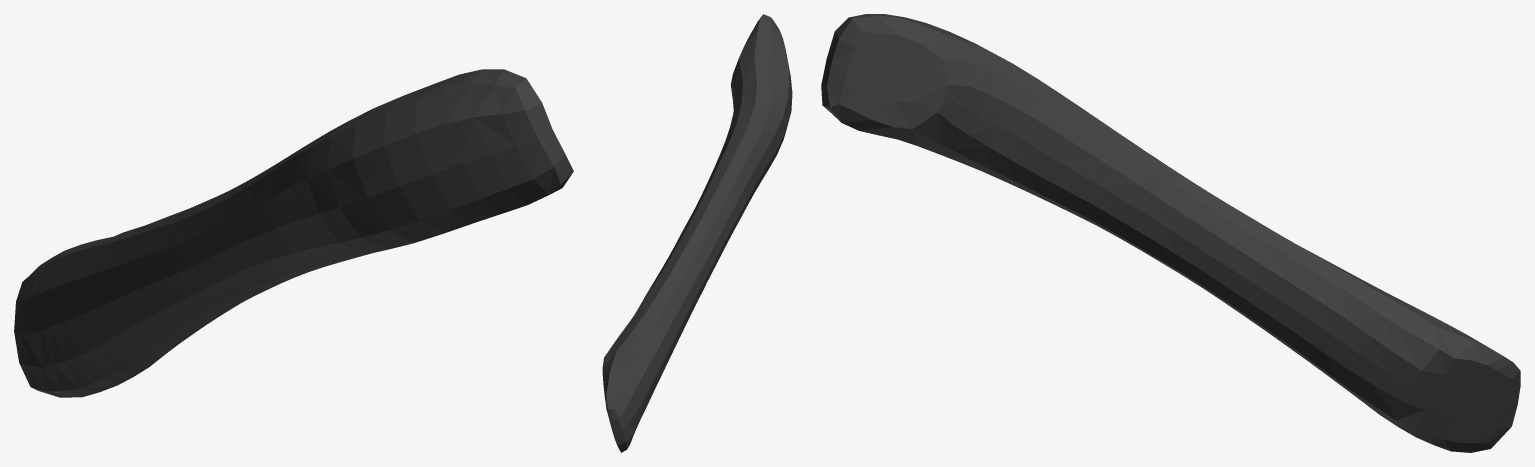
Rendered from Med_femorpatella_lig.glb.
3 renders of one model, left to right at view 1: azimuth 30°, elevation 25°; view 2: azimuth 150°, elevation 25°; view 3: azimuth 270°, elevation 25°, orthographic. The views are drawn at different scales.
Parts seen in each view (by area): view 1: Med_femorpatella_lig; view 2: Med_femorpatella_lig; view 3: Med_femorpatella_lig.
Boxes of the visible parts, bbox=[...] form: Med_femorpatella_lig: bbox=[14, 69, 573, 397]; Med_femorpatella_lig: bbox=[602, 14, 792, 452]; Med_femorpatella_lig: bbox=[821, 14, 1520, 452].
Size of the model in its own units: 19.06 by 67.21 by 90.33.
1 material, 1 textured.
